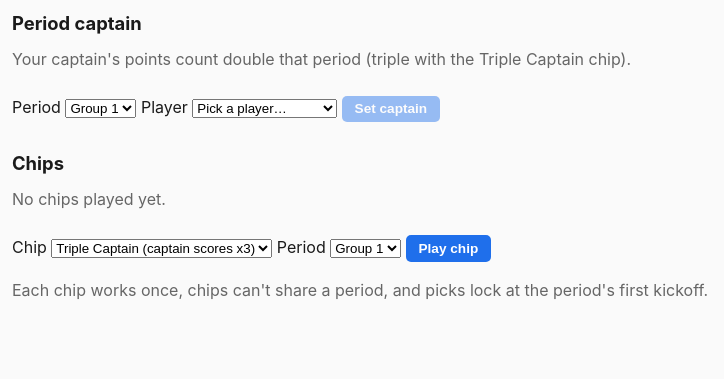
Test: ChipsPanel › surfaces API errors (e.g. chip already used)
This screenshot has width=724, height=379.
Click the button "Play chip": (448, 248) [406, 235, 491, 262]
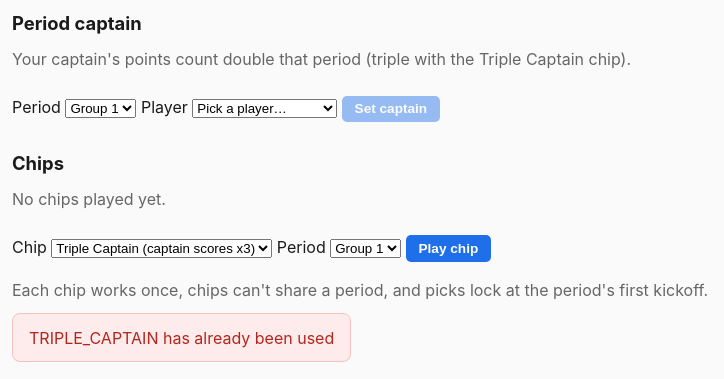
Result: the text "TRIPLE_CAPTAIN has already been used" is shown at [12, 313, 351, 362]
